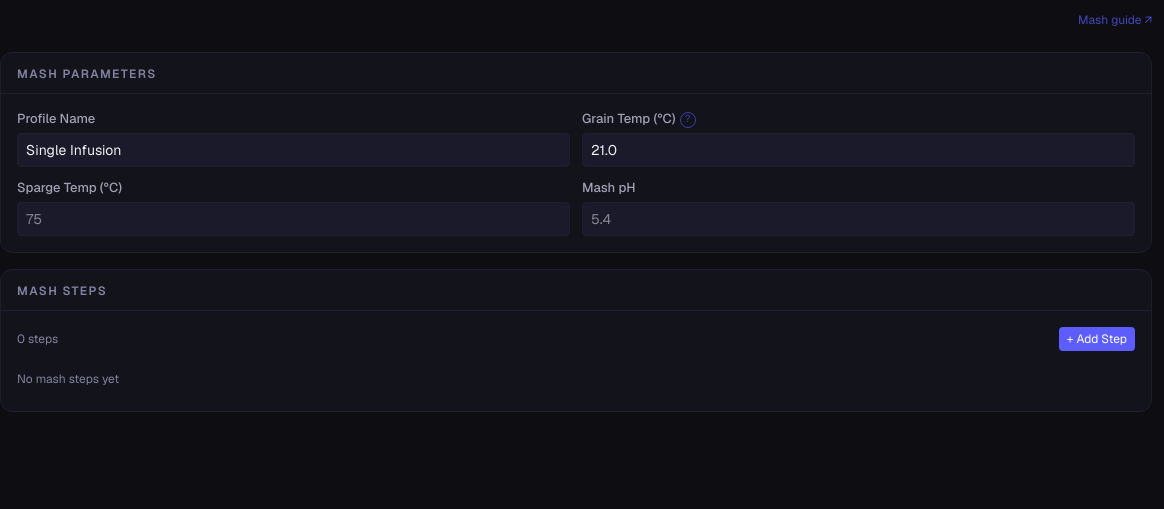
it: MashTab: infuse amount input in Add Step form › shows infuse amount input when step type is infusion
This screenshot has width=1164, height=509.
Click the button "+ Add Step": (1097, 339) [1059,327,1135,351]
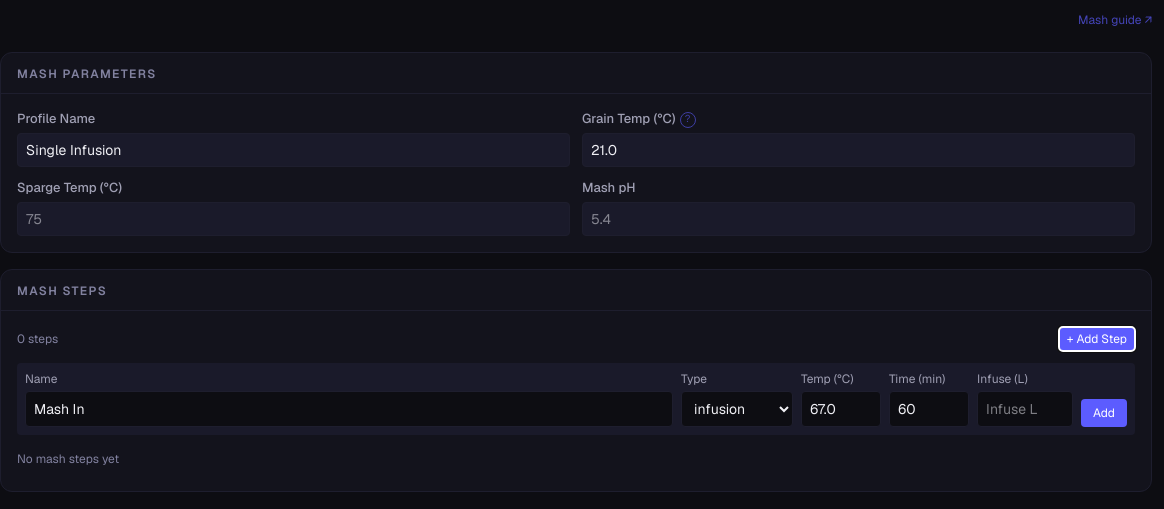
Result: the number field with placeholder "Infuse L" is shown at [977,391,1073,427]
